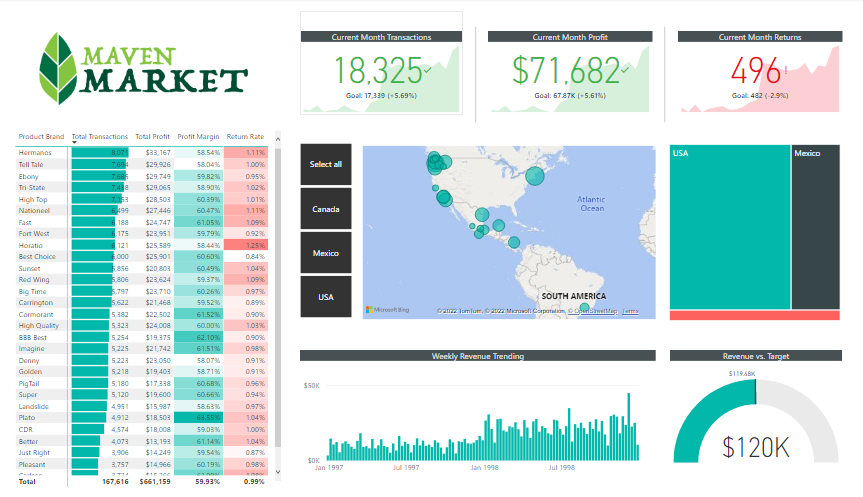

What the dashboard file says about the page in this screenshot:
{"tool":"powerbi","page":{"name":"Topline Performance","canvas":[1280,720],"ordinal":0},"visuals":[{"type":"image","box":[40,7.5,346.6,132.7],"z":0},{"type":"pivotTable","fields":{"Values":["Transaction_Data.Total Transactions","Transaction_Data.Total Profit","Transaction_Data.Profit Margin","Return_Data.Return Rate"],"Rows":["Products.product_brand"]},"box":[20.6,161.3,401.5,536],"z":1000},{"type":"kpi","title":"Current Month Transactions","fields":{"TrendLine":["Calendar.Start of Month"],"Goal":["Transaction_Data.Last Month Transactions"],"Indicator":["Transaction_Data.Total Transactions"]},"box":[445.9,19,240.2,124.7],"z":2000},{"type":"kpi","title":"Current Month Profit","fields":{"TrendLine":["Calendar.Start of Month"],"Goal":["Transaction_Data.Last Month Profit"],"Indicator":["Transaction_Data.Total Profit"]},"box":[723.3,19,242.5,124.7],"z":3000},{"type":"kpi","title":"Current Month Returns","fields":{"TrendLine":["Calendar.Start of Month"],"Goal":["Return_Data.Last Month Returns"],"Indicator":["Return_Data.Total Returns"]},"box":[1003,19,242.5,124.7],"z":4000},{"type":"map","fields":{"Category":["Stores.store_city"],"Size":["Transaction_Data.Total Transactions"]},"box":[532.8,182.5,442.7,266.5],"z":5000},{"type":"slicer","fields":{"Values":["Stores.store_country"]},"box":[420.5,178.9,124.7,270],"z":6000},{"type":"columnChart","title":"Weekly Revenue Trending","fields":{"Category":["Calendar.Start of Week"],"Y":["Transaction_Data.Total Revenue"]},"box":[445.9,490,525.3,192.2],"z":7000},{"type":"gauge","title":"Revenue vs. Target","fields":{"Y":["Transaction_Data.Total Revenue"],"TargetValue":["Transaction_Data.Revenue Target"]},"box":[991.1,490,254.4,171.6],"z":8000},{"type":"basicShape","box":[671.7,2.9,67.5,161.3],"z":9000},{"type":"basicShape","box":[950.3,2.9,67.5,161.3],"z":10000},{"type":"treemap","fields":{"Group":["Stores.store_country","Stores.store_state","Stores.store_city"],"Values":["Transaction_Data.Total Transactions"]},"box":[985.8,181.4,261.9,270],"z":11000}]}

Visuals, with their boxes in screenshot pixels (x1, y1, x2, y2), scaled from the page's 1280x720 canvas onto the 863x497 screenshot:
image: (27, 5, 261, 97)
pivotTable - Transaction_Data.Total Transactions x Transaction_Data.Total Profit: (14, 111, 285, 481)
"Current Month Transactions" kpi: (301, 13, 463, 99)
"Current Month Profit" kpi: (488, 13, 651, 99)
"Current Month Returns" kpi: (676, 13, 840, 99)
map - Stores.store_city x Transaction_Data.Total Transactions: (359, 126, 658, 310)
slicer - Stores.store_country: (284, 123, 368, 310)
"Weekly Revenue Trending" columnChart: (301, 338, 655, 471)
"Revenue vs. Target" gauge: (668, 338, 840, 457)
basicShape: (453, 2, 498, 113)
basicShape: (641, 2, 686, 113)
treemap - Stores.store_country x Stores.store_state: (665, 125, 841, 312)
